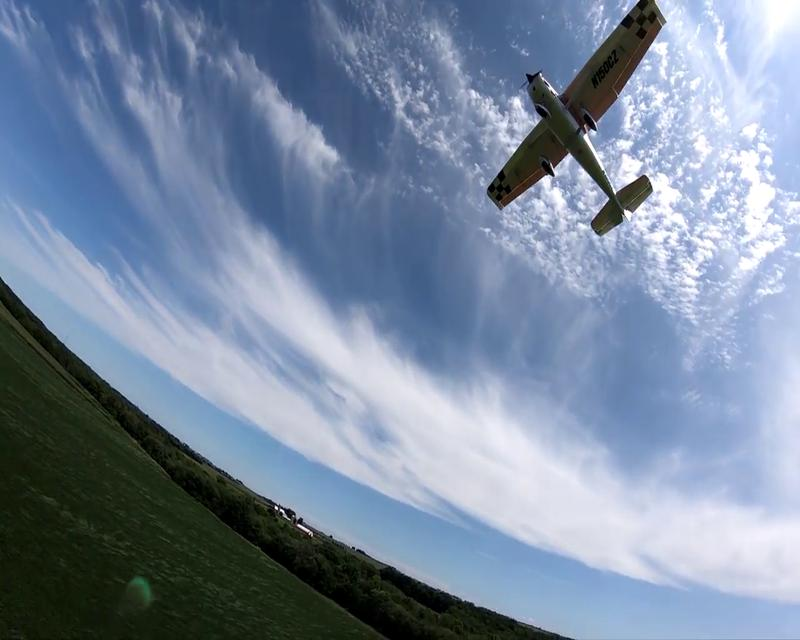UAV: (487, 1, 668, 237)
